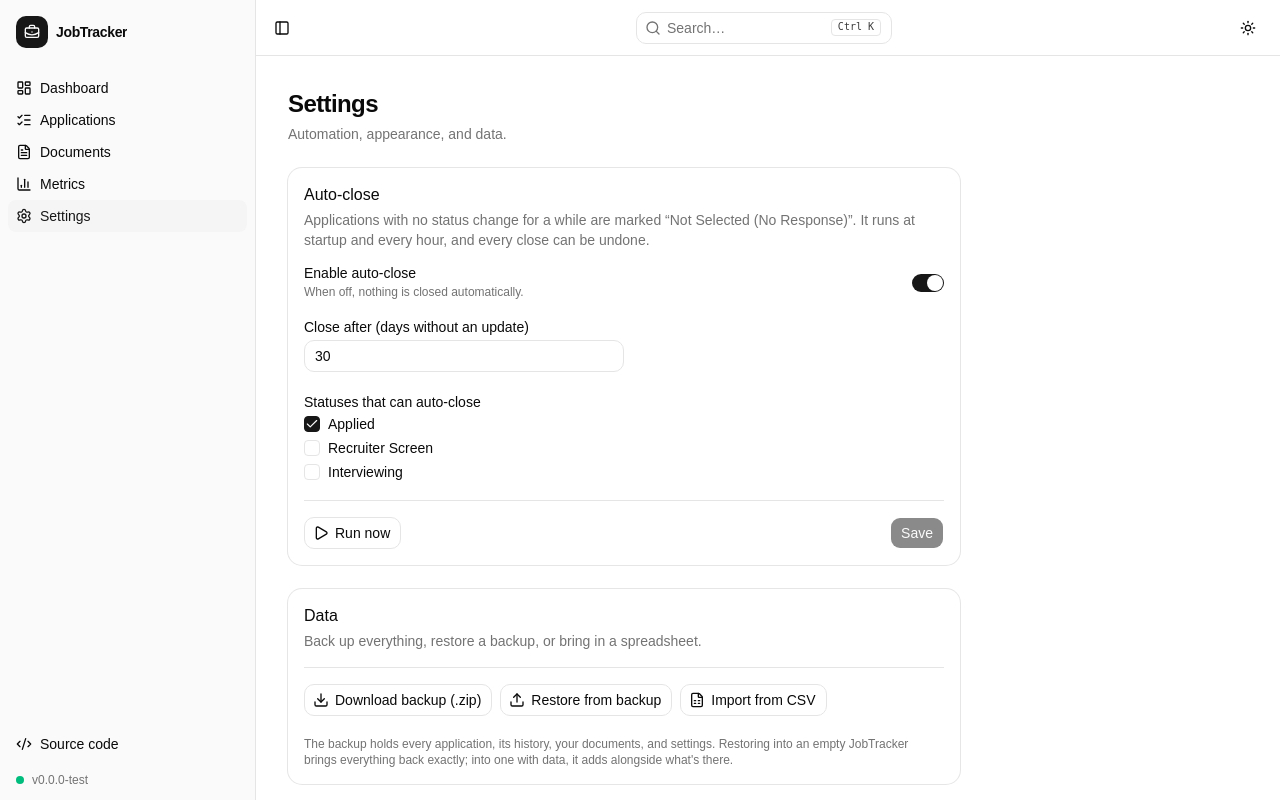
it: Settings page › saves auto-close changes with a PATCH
This screenshot has width=1280, height=800.
Expected: the button "Save" is disabled, [890,517,944,549]
Replace the text in the number field labelled "Close after (days without an update)" with "21" at [464, 356], box [304,340,624,372]
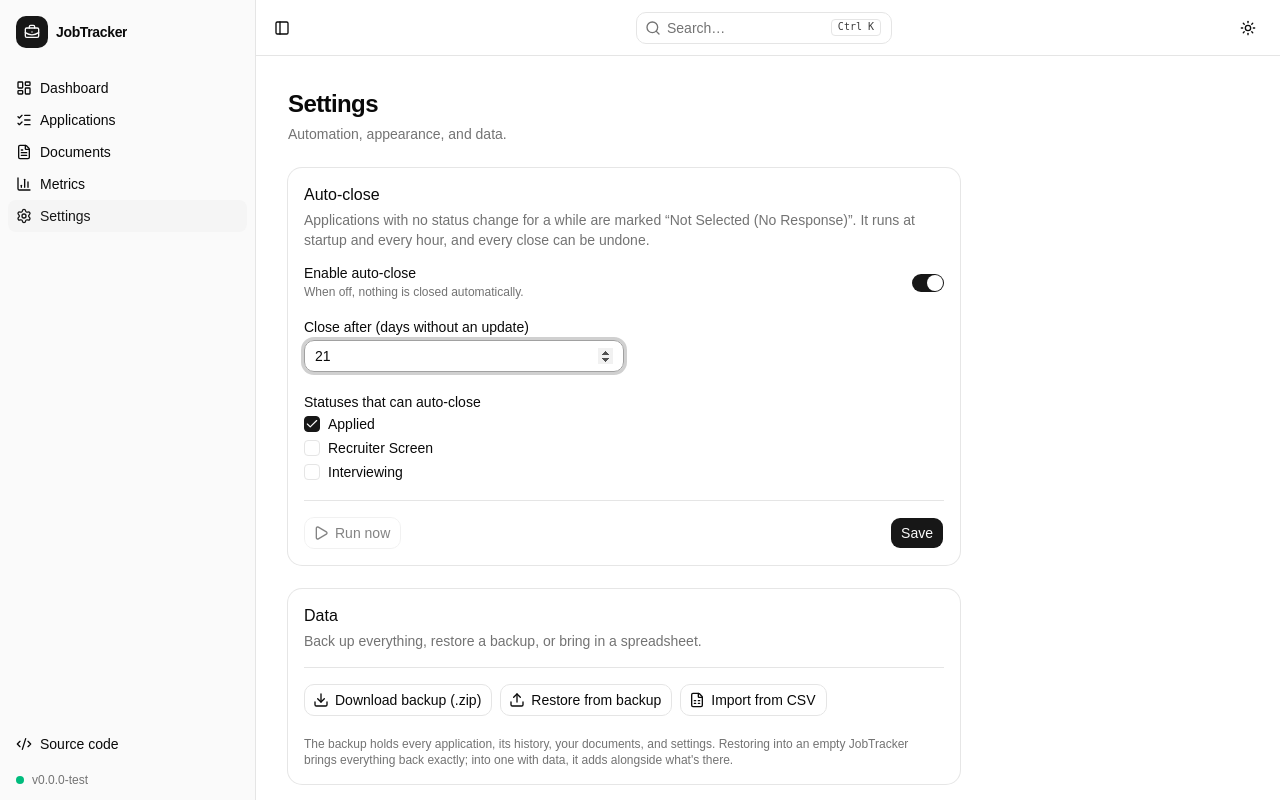
Click the checkbox named "Recruiter Screen" next to "Recruiter Screen" at [312, 448], box [304,440,320,456]
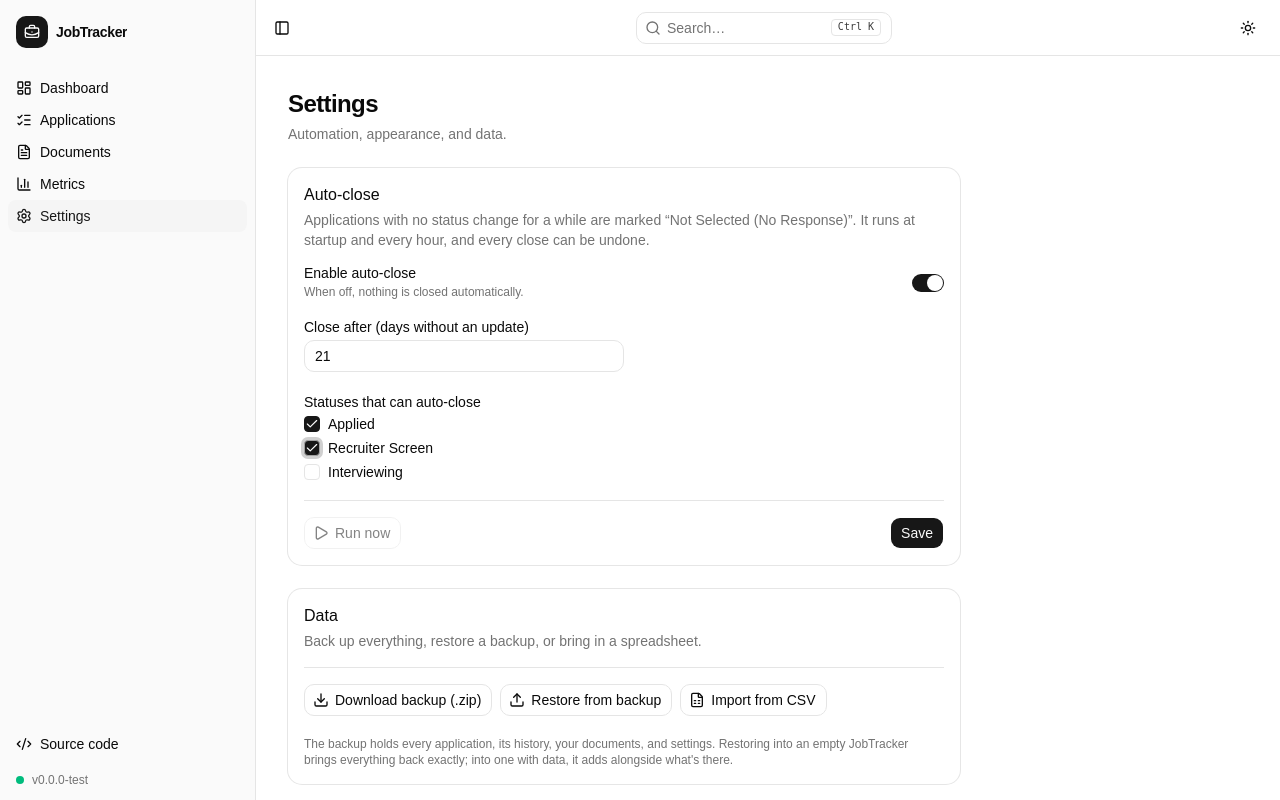
Expected: the button "Run now" is disabled, [304,517,401,549]
Click the button "Save" at [917, 533], box [890,517,944,549]
(page scrolled)
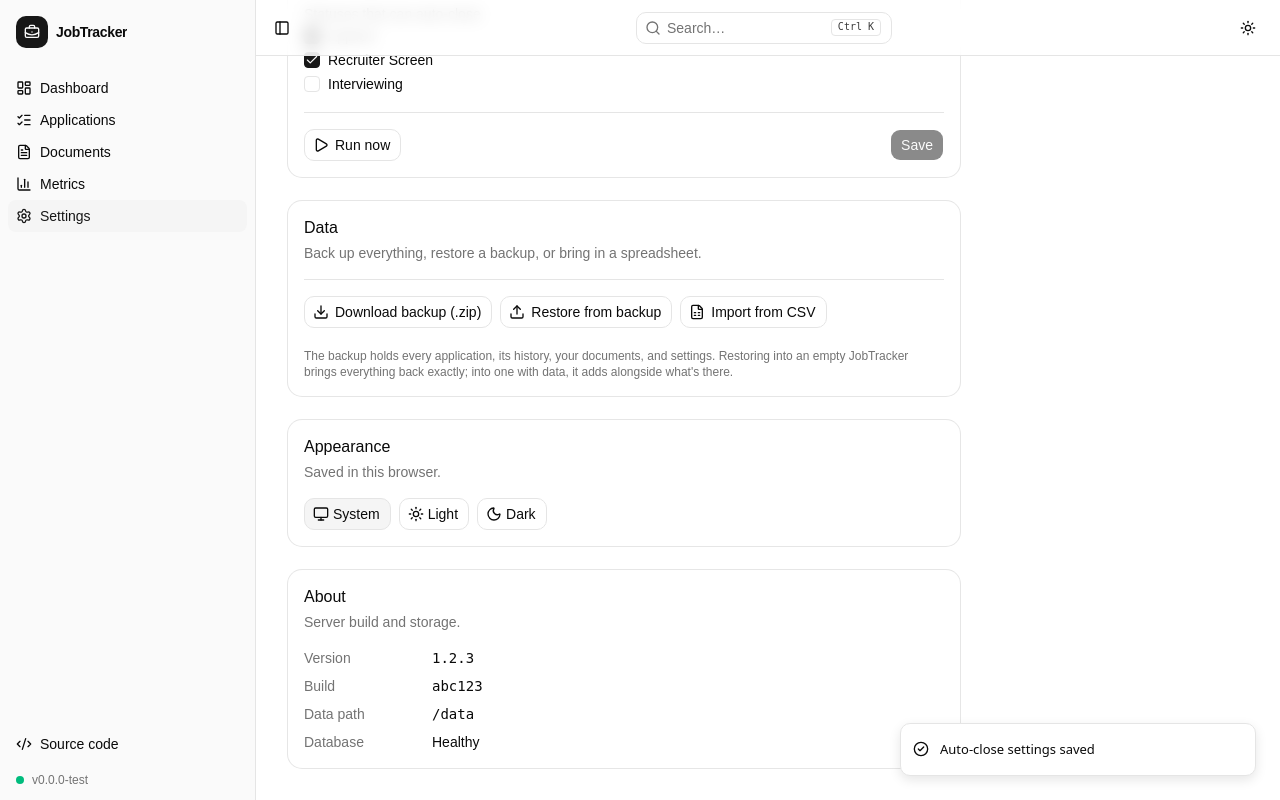
Expected: the text "/data" is shown, [432,706,474,722]
Expected: the text "Auto-close settings saved" is shown, [940,740,1095,759]
